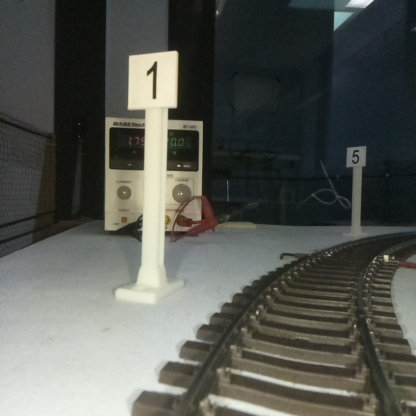white-info-1: (129, 52, 177, 301)
white-info-5: (346, 146, 365, 234)
